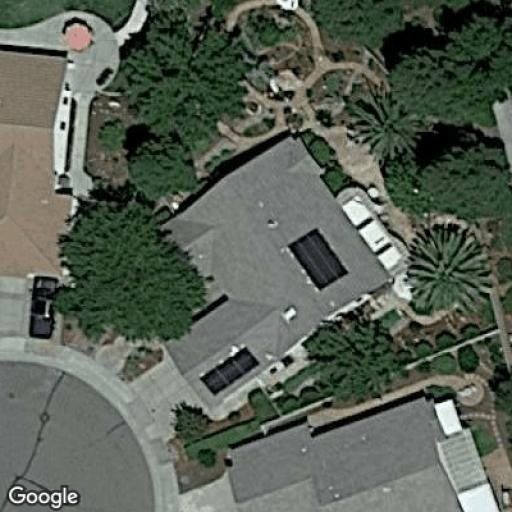solar-panel: (283, 227, 350, 290), (197, 346, 263, 396)
